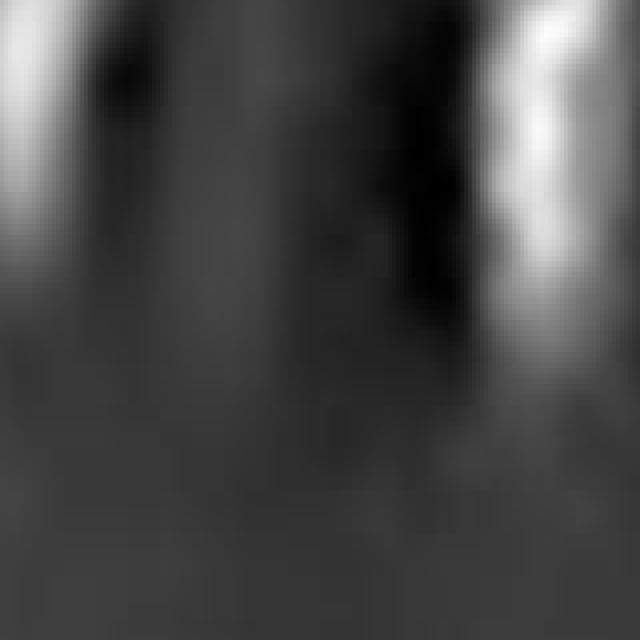person: (449, 1, 640, 460), (1, 1, 121, 364)
